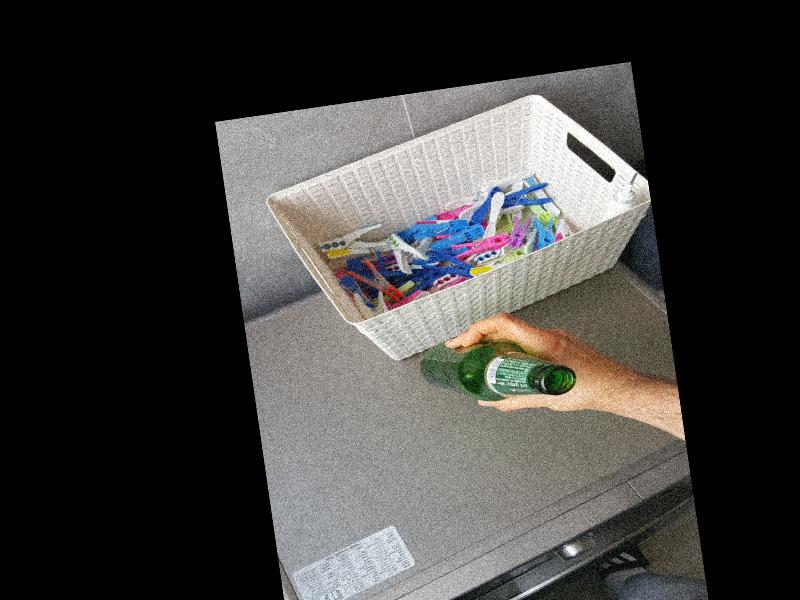Beer: (417, 322, 577, 414)
